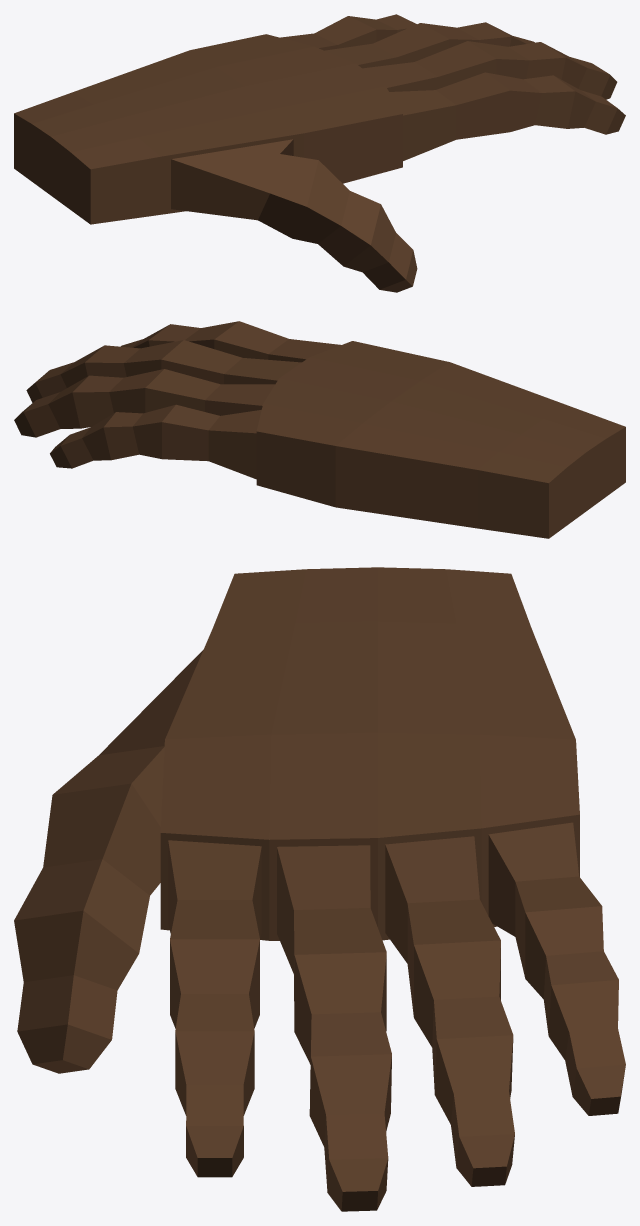
Rendered from old_handL.fbx.
3 views of the same model, one above another, from view 1: azimuth 30°, elevation 25°; view 2: azimuth 150°, elevation 25°; view 3: azimuth 270°, elevation 25° (orthographic). The views are drawn at different scales.
Parts seen in each view (by area): view 1: HandOld.L; view 2: HandOld.L; view 3: HandOld.L.
Boxes of the visible parts, <box> form: HandOld.L: <box>14,14,625,292</box>; HandOld.L: <box>14,321,625,538</box>; HandOld.L: <box>14,567,625,1211</box>.
Bounding box in the file's own units: 21.55 × 5.82 × 11.35.
